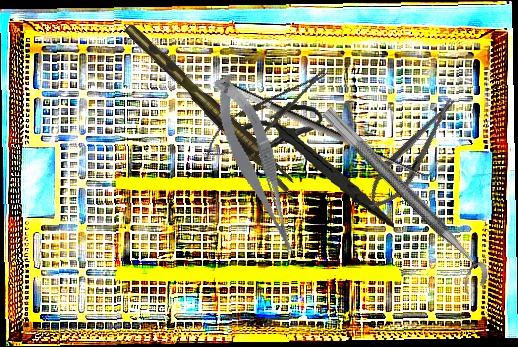Fixation Ring: (307, 106, 495, 298)
Hook Surgical: (215, 61, 443, 189)
Iris Scissors: (229, 98, 406, 229)
Micro Scissor: (208, 67, 303, 266)
Needle Holder: (195, 56, 338, 172), (358, 89, 467, 219)
Tissue Forceps: (124, 14, 297, 199)
